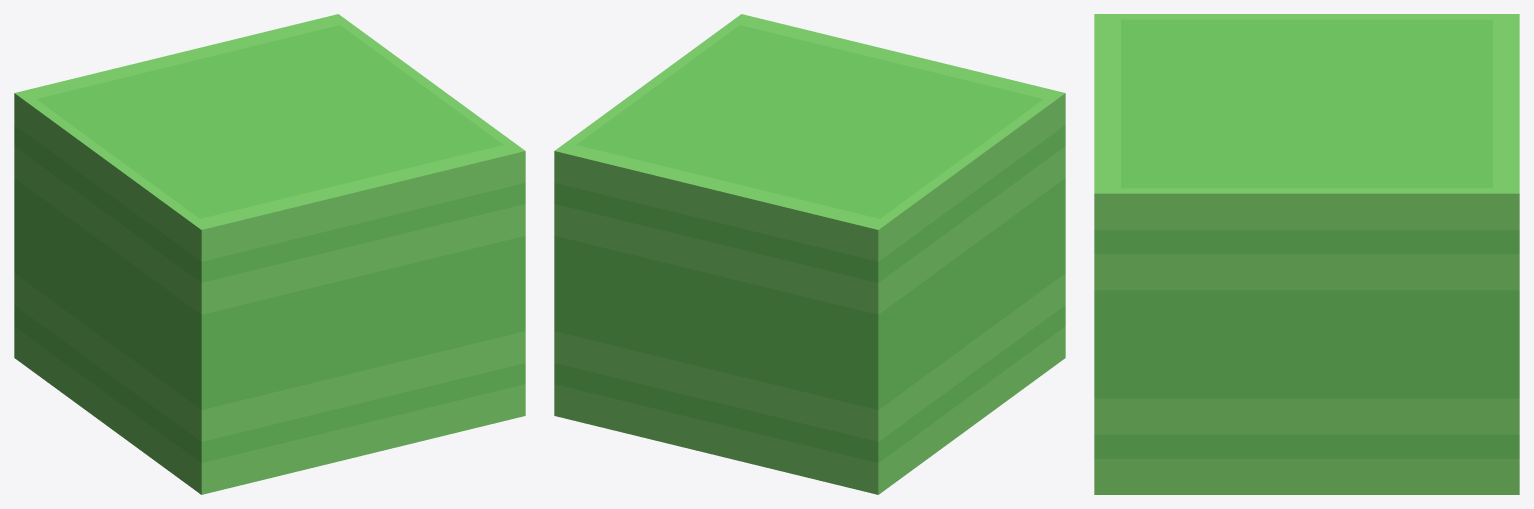
File: tree_oak_01-1.obj
3 views of the same model, side by side, from view 1: azimuth 30°, elevation 25°; view 2: azimuth 150°, elevation 25°; view 3: azimuth 270°, elevation 25° (orthographic). The views are drawn at different scales.
Bounding box in the file's own units: 3.2 × 2.5 × 3.2.
Materials: 1 (1 with a texture image).
